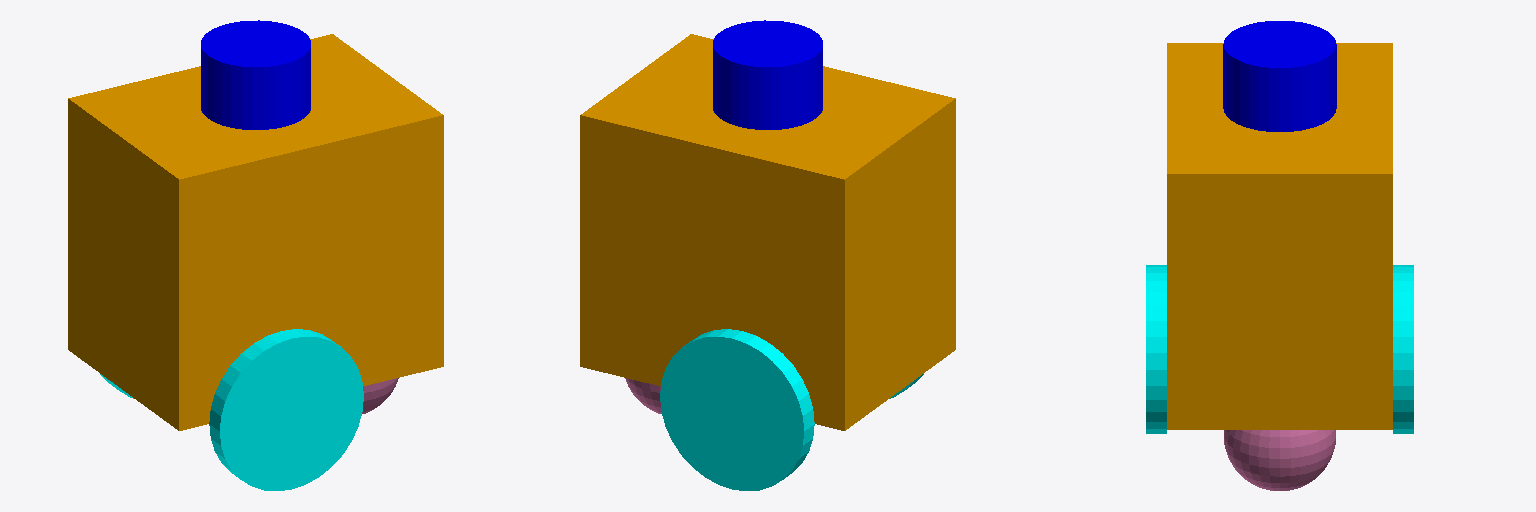
robot.urdf — two_wheeled_robot:
<?xml version="1.0"?>
<robot name="two_wheeled_robot">
  <!-- Base Link -->
  <link name="base_link">
    <visual>
      <geometry>
        <box size="0.11 0.08 0.1"/>
      <material name="blue">
        <color rgba="0 0 1 1"/>
      </material>
      </geometry>
    </visual>
    <collision>
      <geometry>
        <box size="0.11 0.08 0.1"/>
      </geometry>
    </collision>
    <inertial>
      <mass value="1"/>
      <inertia ixx="0.001" ixy="0.0" ixz="0.0" iyy="0.001" iyz="0.0" izz="0.001"/>
    </inertial>
  </link>
  <!-- Base Footprint Link -->
  <link name="base_footprint">
    <inertial>    
      <mass value="0"/>
      <inertia ixx="0.0" ixy="0.0" ixz="0.0" iyy="0.0" iyz="0.0" izz="0.0"/>
    </inertial>
  </link>
  <!-- LIDAR Link -->
  <link name="lidar_link">
    <visual>
      <geometry>
        <cylinder radius="0.02" length="0.025"/>
      </geometry>
      <origin rpy="0 0 0" xyz="0 0 0"/>
      <material name="blue">
        <color rgba="0 0 1 1"/>
      </material>
    </visual>
    <collision>
      <geometry>
        <cylinder radius="0.02" length="0.025"/>
      </geometry>
    </collision>
    <inertial>
      <mass value="0.1"/>
      <inertia ixx="0.0001" ixy="0.0" ixz="0.0" iyy="0.0001" iyz="0.0" izz="0.0001"/>
    </inertial>
  </link>
  <!-- Wheel Links -->
  <link name="left_wheel">
    <visual>
      <geometry>
        <cylinder radius="0.03" length="0.0075"/>
      </geometry>
      <material name="cyan">
        <color rgba="0 1 1 1"/>
      </material>
    </visual>
    <collision>
      <geometry>
        <cylinder radius="0.03" length="0.0075"/>
      </geometry>
    </collision>
    <inertial>
      <mass value="0.1"/>
      <inertia ixx="0.000045" ixy="0.0" ixz="0.0" iyy="0.000045" iyz="0.0" izz="0.000045"/>
    </inertial>
  </link>
  <link name="right_wheel">
    <visual>
      <geometry>
        <cylinder radius="0.03" length="0.0075"/>
      </geometry>
      <material name="cyan">
        <color rgba="0 1 1 1"/>
      </material>
    </visual>
    <collision>
      <geometry>
        <cylinder radius="0.03" length="0.075"/>
      </geometry>
    </collision>
    <inertial>
      <mass value="0.1"/>
      <inertia ixx="0.000045" ixy="0.0" ixz="0.0" iyy="0.000045" iyz="0.0" izz="0.000045"/>
    </inertial>
  </link>
  <!--Caster Cylinder Link-->
  <link name="caster_cylinder">
    <visual>
      <geometry>
        <cylinder radius="0.01" length="0.01"/>
      </geometry>
    </visual>
    <collision>
      <geometry>
        <cylinder radius="0.01" length="0.01"/>
      </geometry>
    </collision>
    <inertial>
      <mass value="0.05"/>
       <inertia ixx="0.00000167" ixy="0.0" ixz="0.0" iyy="0.00000167" iyz="0.0" izz="0.0000025"/>
    </inertial>
  </link>
  <!-- Caster Link -->
  <link name="caster">
    <visual>
      <geometry>
        <sphere radius="0.02"/>
      </geometry>
    </visual>
    <collision>
      <geometry>
        <sphere radius="0.02"/>
      </geometry>
    </collision>
    <inertial>
      <mass value="0.05"/>
      <inertia ixx="0.000002" ixy="0.0" ixz="0.0" iyy="0.000002" iyz="0.0" izz="0.000002"/>
    </inertial>
  </link>
  <!-- Joint Definitions -->
  <!-- Base Joint -->
  <joint name="base_joint" type="fixed">
    <parent link="base_link"/>
    <child link="base_footprint"/>
    <origin xyz="0 0 -0.08" rpy="0 0 0"/>
  </joint>
  <!-- LIDAR Joint -->
  <joint name="lidar_joint" type="fixed">
    <parent link="base_link"/>
    <child link="lidar_link"/>
    <origin xyz="0 0 0.0625" rpy="0 0 0"/>
  </joint>
  <!-- Wheels Joint -->
  <joint name="left_wheel_joint" type="continuous">
    <parent link="base_link"/>
    <child link="left_wheel"/>
    <origin xyz="-0.0125 -0.04375 -0.05" rpy="1.57075 0 0"/>
    <axis xyz="0 0 -1"/>
  </joint>
  <joint name="right_wheel_joint" type="continuous">
    <parent link="base_link"/>
    <child link="right_wheel"/>
    <origin xyz="-0.0125 0.04375 -0.05" rpy="1.57075 0 0"/>
    <axis xyz="0 0 -1"/>
  </joint>
  <!-- Cylinder Caster Joint -->
  <joint name="cylinder_joint" type="fixed">
    <parent link="base_link"/>
    <child link="caster_cylinder"/>
    <origin xyz="0.0375 0 -0.055" rpy="0 0 0"/>
  </joint>
  <joint name="caster_joint" type="fixed">
    <parent link="base_link"/>
    <child link="caster"/>
    <origin xyz="0.0375 0 -0.06" rpy="0 0 0"/>
    <axis xyz="1 1 1"/>
  </joint>
  <!-- Gazebo plugin for differential drive -->
  <gazebo>
    <plugin name="diff_drive" filename="libgazebo_ros_diff_drive.so">
      <update_rate>100.0</update_rate>
      <left_joint>left_wheel_joint</left_joint>
      <right_joint>right_wheel_joint</right_joint>
      <wheel_separation>0.0875</wheel_separation>
      <wheel_diameter>0.06</wheel_diameter>
      <max_wheel_torque>0.5</max_wheel_torque>
      <max_wheel_acceleration>0.0025</max_wheel_acceleration>
      <!-- output -->
      <publish_odom>true</publish_odom>
      <publish_odom_tf>false</publish_odom_tf>
      <publish_wheel_tf>true</publish_wheel_tf>
      <odometry_frame>odom</odometry_frame>
      <robot_base_frame>base_link</robot_base_frame>
    </plugin>
  </gazebo>
  <!-- Gazebo plugin for RPLIDAR A1 -->
  <gazebo reference="lidar_link">
    <sensor name="lidar" type="ray">
      <always_on>true</always_on>
      <visualize>true</visualize>
      <update_rate>1</update_rate>
      <ray>
        <scan>
          <horizontal>
            <samples>180</samples>
            <resolution>1.000000</resolution>
            <min_angle>0.000000</min_angle>
            <max_angle>6.28319</max_angle>
          </horizontal>
        </scan>
        <range>
          <min>0.120000</min>
          <max>3.5</max>
          <resolution>0.015000</resolution>
        </range>
        <noise>
          <type>gaussian</type>
          <mean>0.0</mean>
          <stddev>0.01</stddev>
        </noise>
      </ray>
      <plugin name="scan" filename="libgazebo_ros_ray_sensor.so">
        <ros>
          <remapping>~/out:=scan</remapping>
        </ros>
        <output_type>sensor_msgs/LaserScan</output_type>
        <frame_name>lidar_link</frame_name>
      </plugin>
    </sensor>
  </gazebo>
</robot>

--- What the picture shows (computed from the rendered views, not written in the file) ---
The picture shows the robot from 3 angles, left to right: view 1: azimuth 30°, elevation 25°; view 2: azimuth 150°, elevation 25°; view 3: azimuth 270°, elevation 25°; orthographic projection.
Robot: two_wheeled_robot — 7 links, 6 joints (2 continuous, 4 fixed); root link base_link; default pose: every joint at zero.
Visible links, largest first — view 1: base_link, left_wheel, lidar_link, caster; view 2: base_link, right_wheel, lidar_link, caster; view 3: base_link, lidar_link, caster, left_wheel, right_wheel.
Boxes of the visible links, <box> form: base_link: <box>68,34,443,430</box>; left_wheel: <box>209,329,363,490</box>; lidar_link: <box>201,20,310,129</box>; caster: <box>362,378,398,413</box>; base_link: <box>580,34,955,430</box>; right_wheel: <box>660,329,814,490</box>; lidar_link: <box>713,20,822,129</box>; caster: <box>625,378,661,413</box>; base_link: <box>1167,43,1392,429</box>; lidar_link: <box>1223,21,1336,131</box>; caster: <box>1224,430,1335,490</box>; left_wheel: <box>1146,265,1166,433</box>; right_wheel: <box>1393,265,1413,433</box>.
Bounding box of the posed robot: 0.1125 × 0.095 × 0.155 m (x, y, z).
Geometry: primitives only (box / cylinder / sphere), no mesh files.
